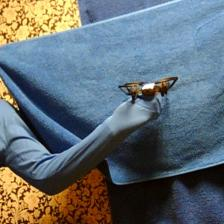drone: (118, 76, 182, 104)
